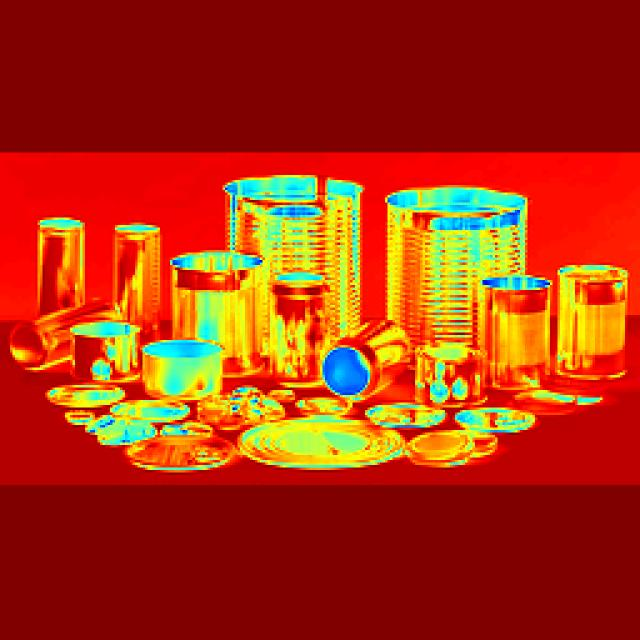Aluminium Food Cans: (379, 184, 534, 333), (236, 179, 378, 284), (244, 418, 385, 493), (469, 282, 573, 382), (170, 255, 274, 338), (560, 272, 635, 380), (270, 268, 336, 362), (107, 223, 175, 307), (66, 312, 138, 388), (142, 331, 212, 396), (46, 218, 100, 288), (438, 411, 524, 454), (328, 330, 401, 380), (414, 355, 471, 408)
